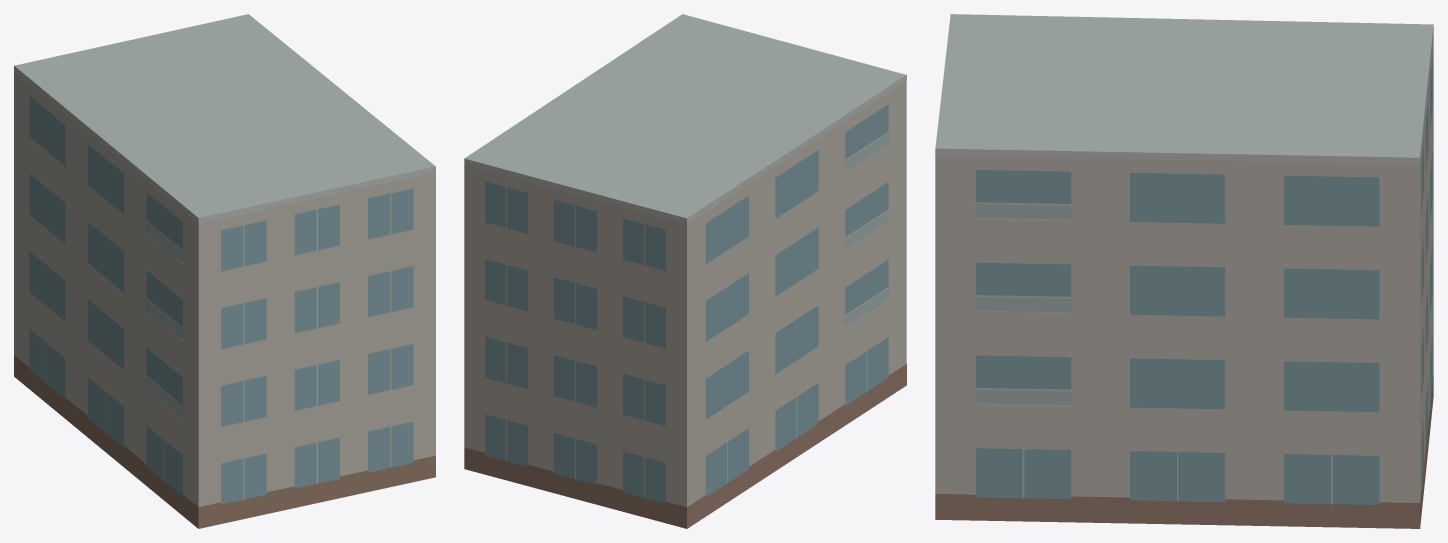
The model's file is survey-upis-32638679.glb.
3 views of the same model, side by side, from view 1: azimuth 30°, elevation 25°; view 2: azimuth 150°, elevation 25°; view 3: azimuth 270°, elevation 25° (orthographic). The views are drawn at different scales.
Parts seen in each view (by area): view 1: survey-upis-32638679.tmp; view 2: survey-upis-32638679.tmp; view 3: survey-upis-32638679.tmp.
Boxes of the visible parts, x1,y1,x2,y2 form: survey-upis-32638679.tmp: [14, 14, 435, 528]; survey-upis-32638679.tmp: [464, 14, 906, 528]; survey-upis-32638679.tmp: [935, 14, 1433, 528].
Bounding box in the file's own units: 10.64 × 12.8 × 15.58.
